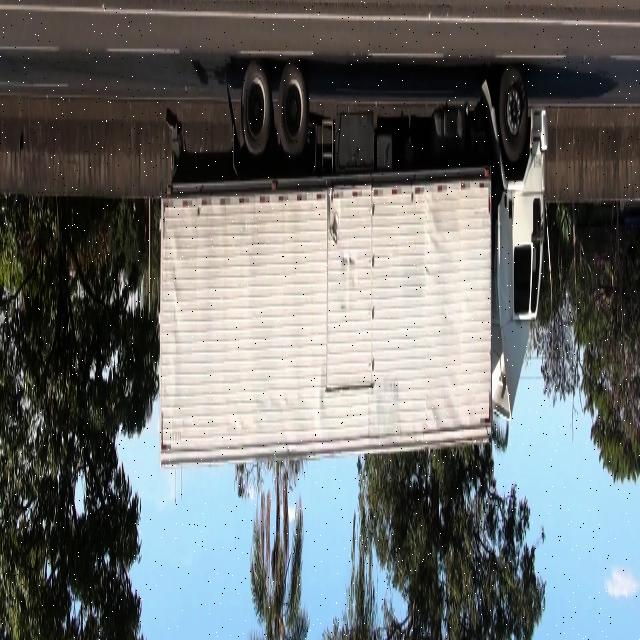-axle: (239, 57, 274, 159), (277, 54, 310, 158), (498, 59, 528, 162)
